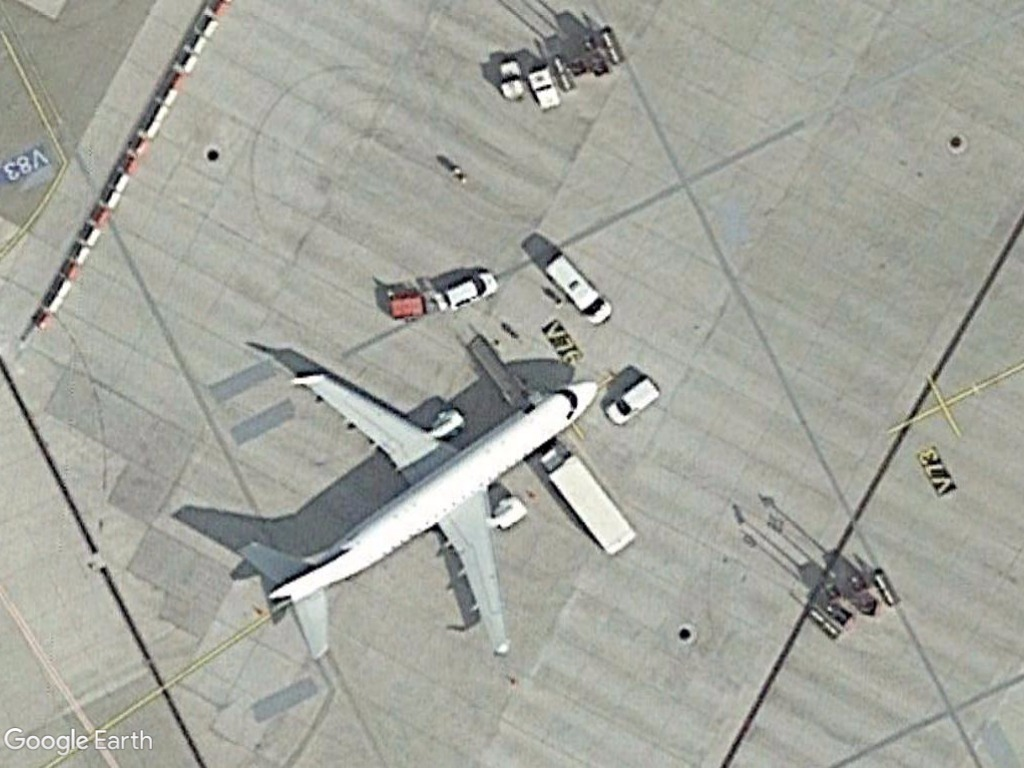airliner: (242, 356, 610, 681)
van: (541, 249, 619, 332), (605, 375, 663, 426), (438, 271, 500, 318)
